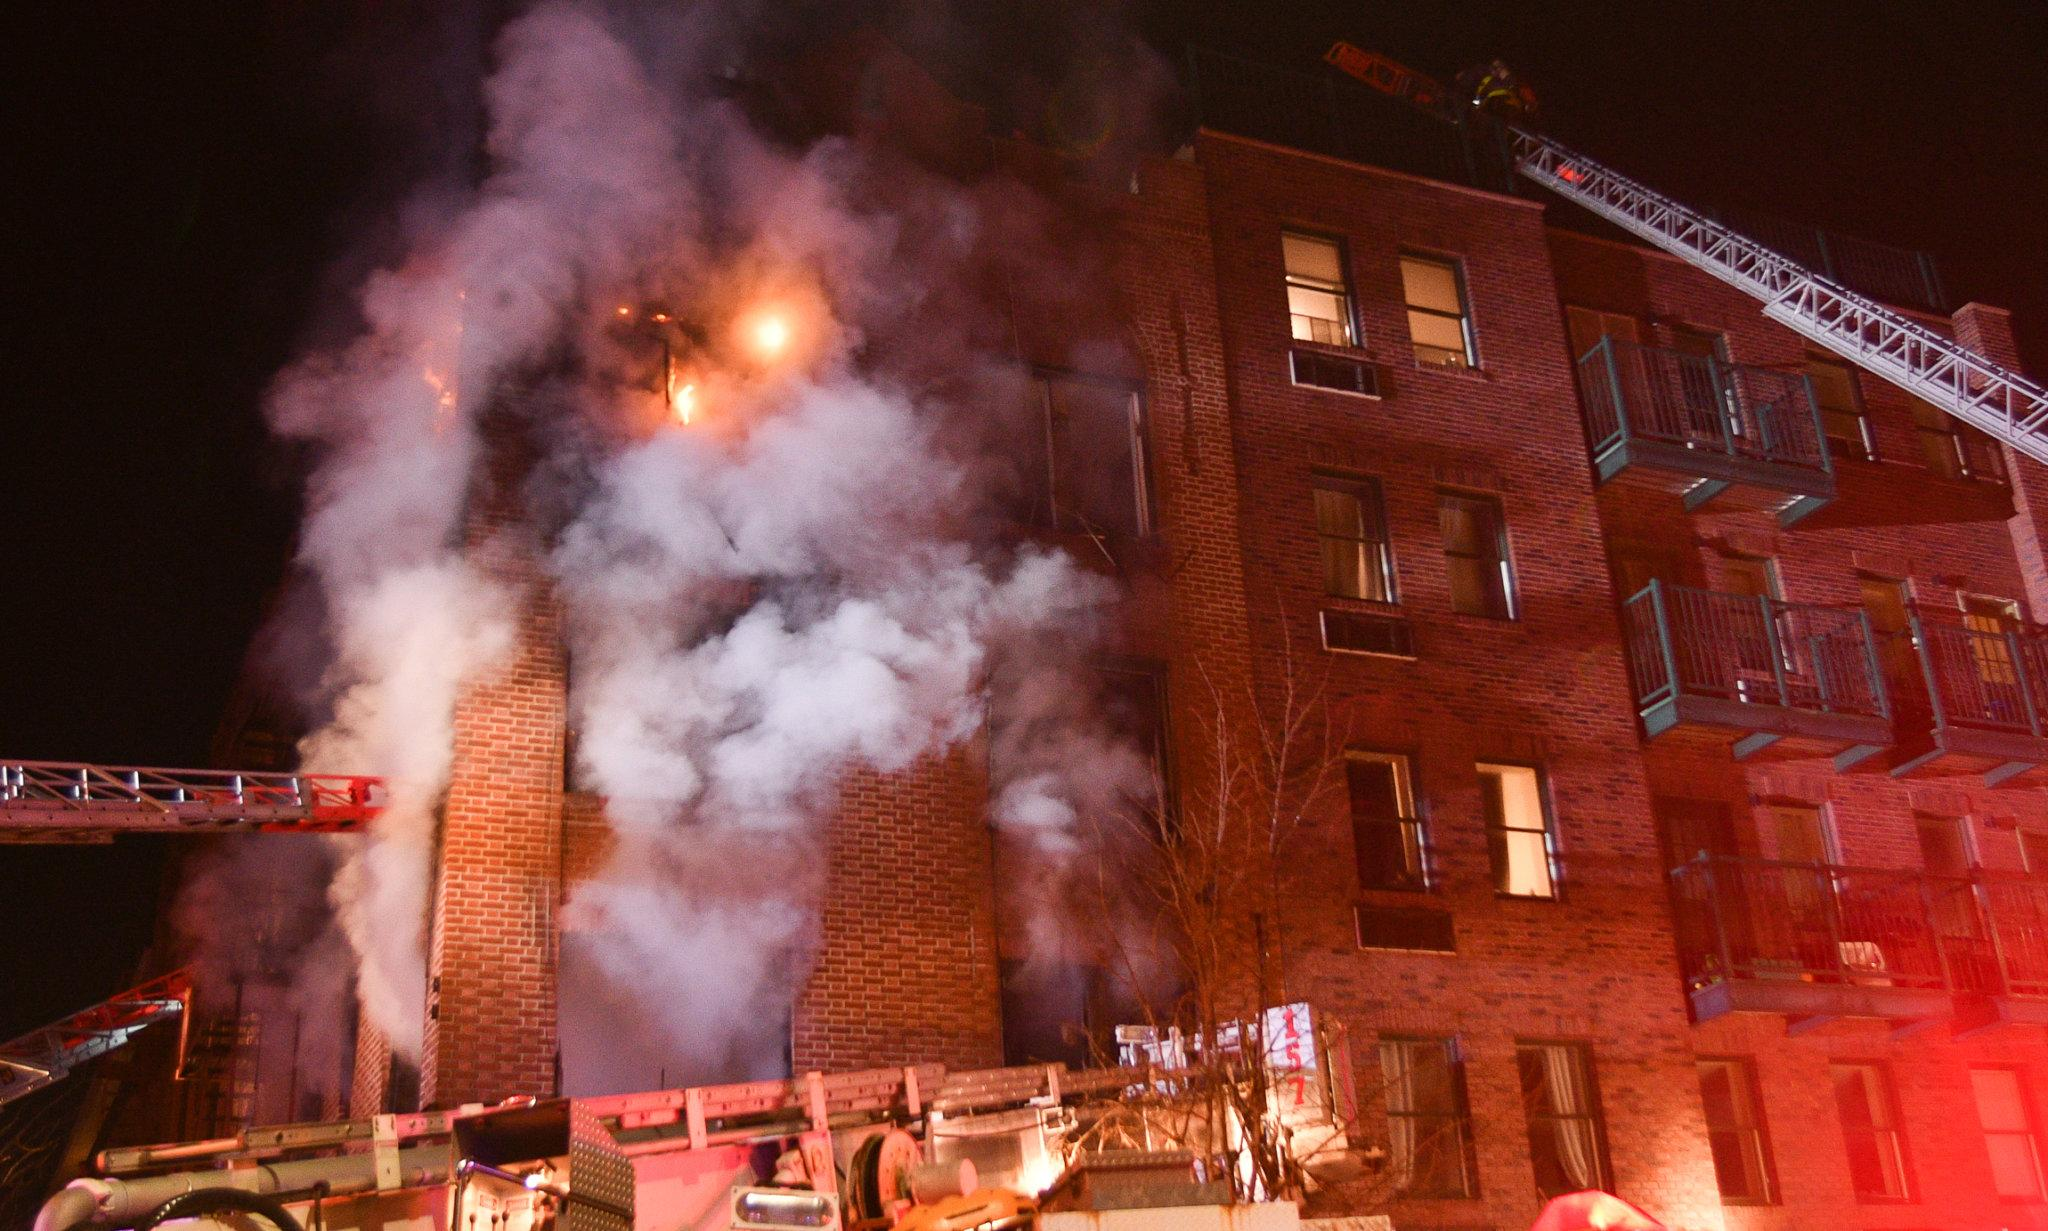Fire: (411, 348, 474, 427), (743, 303, 805, 370), (603, 291, 689, 332), (666, 368, 714, 434)
